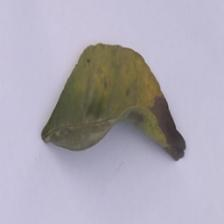black spot: (148, 94, 192, 168)
